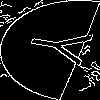Y: (24, 25, 100, 69)
